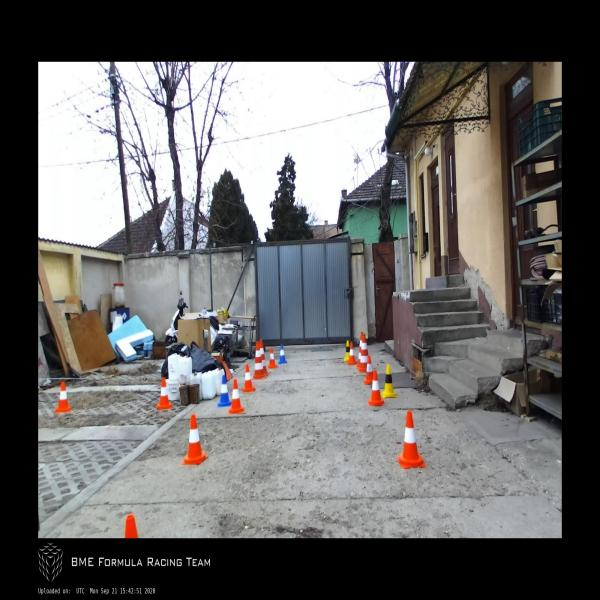blue_cone: (217, 375, 231, 407), (278, 344, 287, 364)
large_orange_cone: (252, 341, 266, 378), (358, 333, 369, 373), (259, 339, 270, 376), (356, 332, 364, 369)
orange_cone: (397, 411, 426, 468), (181, 414, 208, 465), (368, 370, 385, 406), (228, 378, 244, 414), (56, 381, 71, 413), (157, 378, 171, 410), (242, 364, 255, 392), (364, 356, 373, 384), (347, 342, 357, 365), (268, 347, 277, 368)
yellow_cone: (381, 363, 397, 398), (344, 340, 350, 361)
